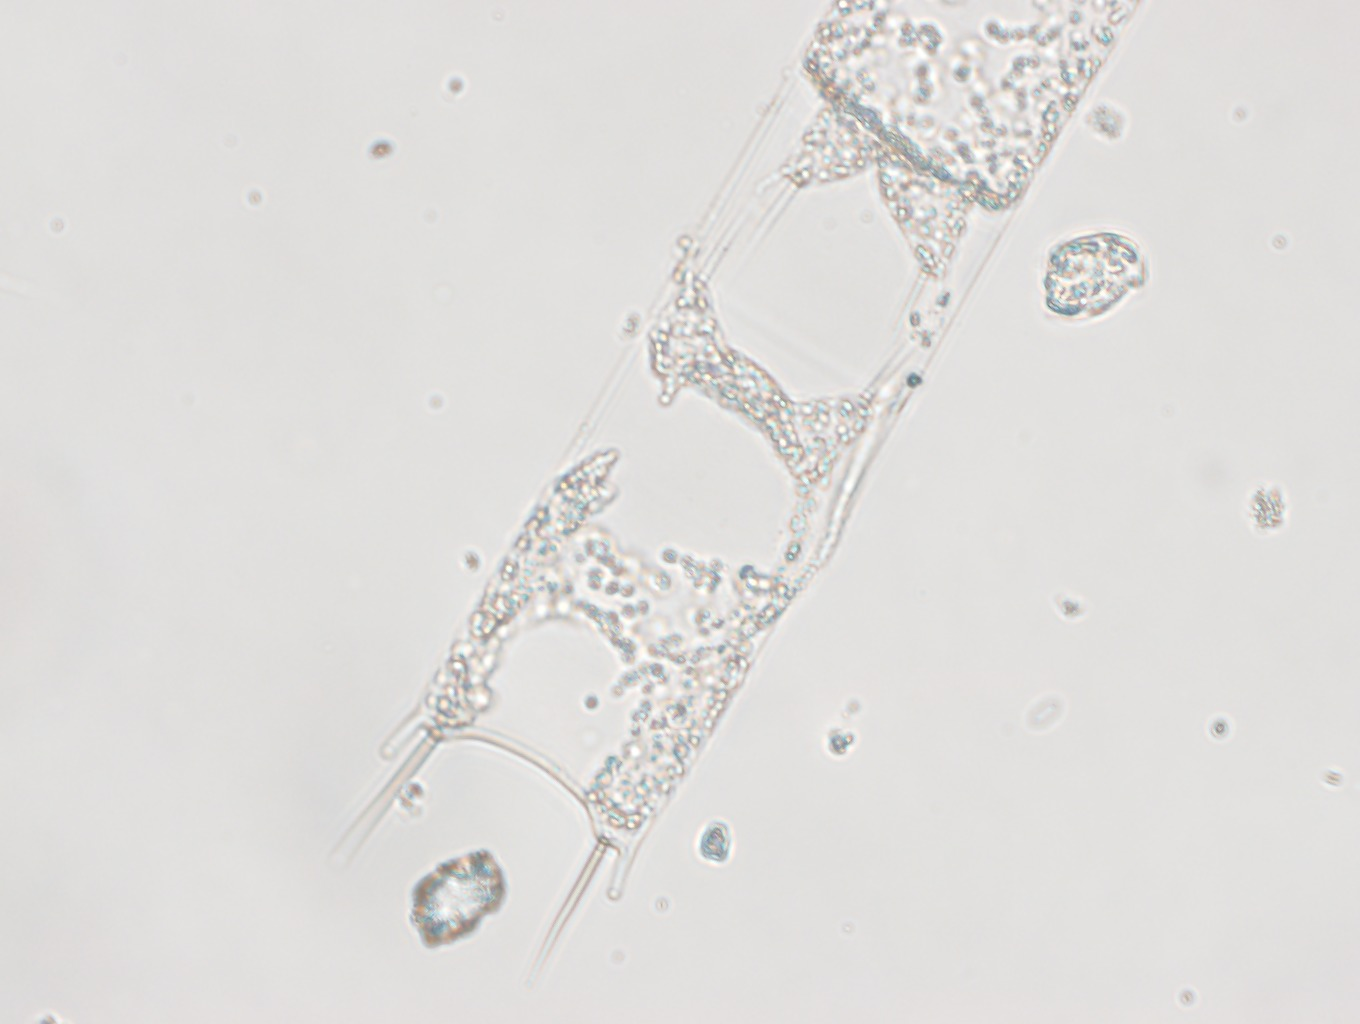biddulphia: (333, 1, 1140, 978)
